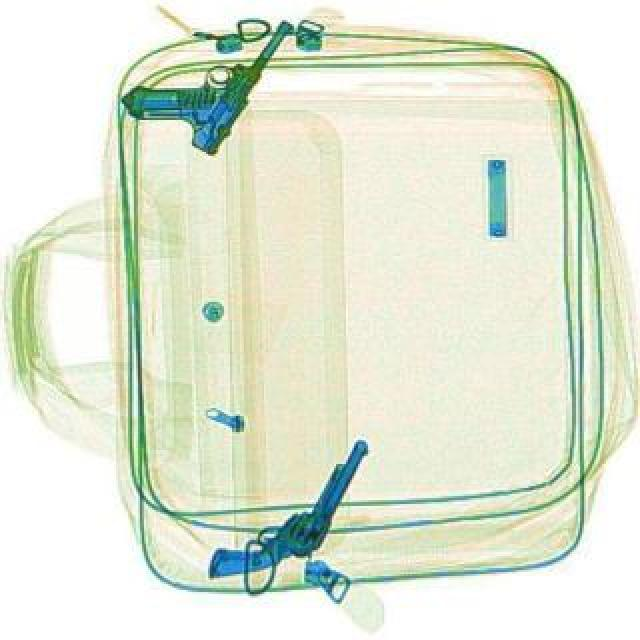gun: (198, 414, 370, 616), (116, 4, 276, 160)
